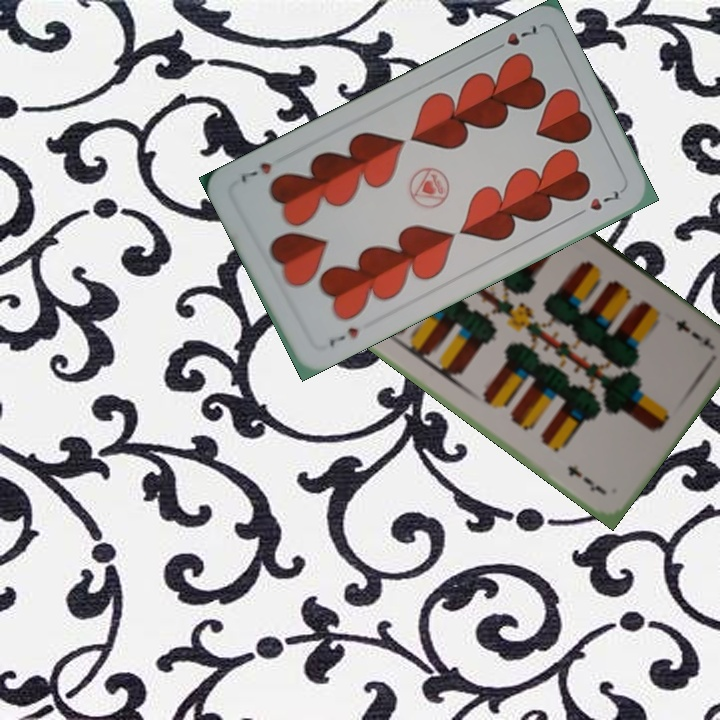E7: (671, 315, 716, 352)
H7: (487, 21, 540, 55), (325, 323, 362, 349)
